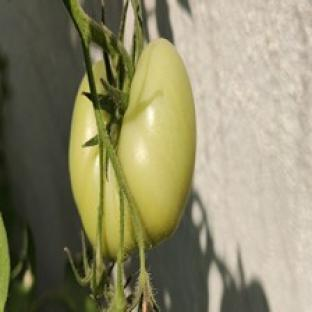Tomato: (117, 39, 196, 245)
